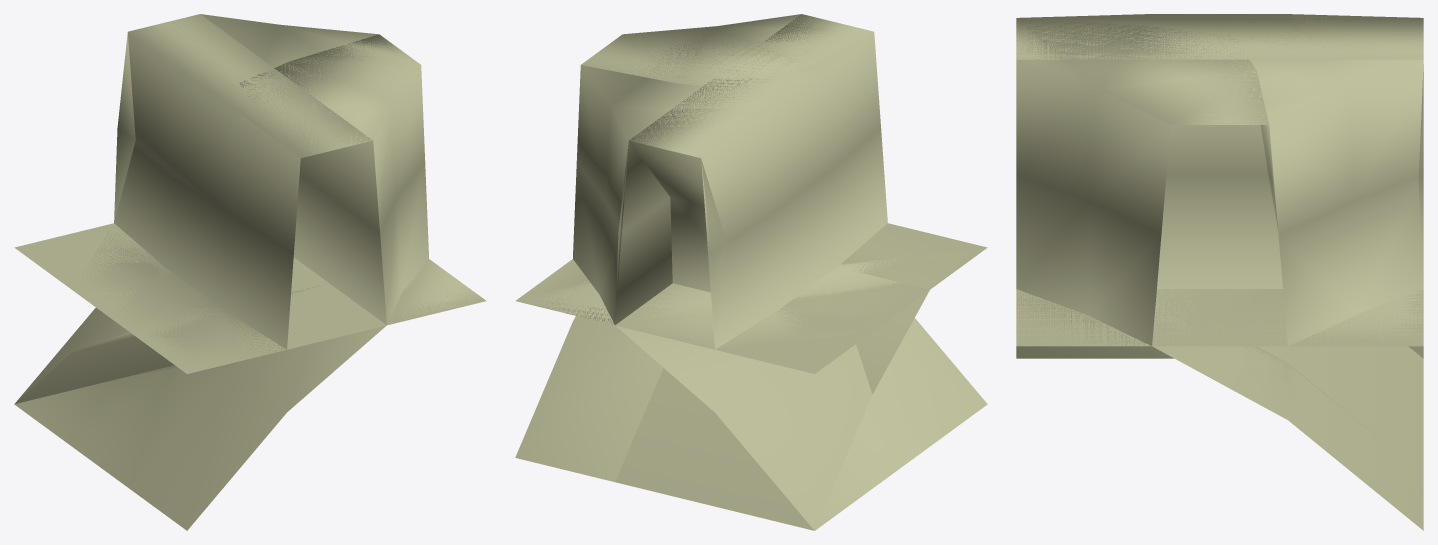
Rendered from outside_asset03.fbx.
3 renders of one model, left to right at view 1: azimuth 30°, elevation 25°; view 2: azimuth 150°, elevation 25°; view 3: azimuth 270°, elevation 25°, orthographic. The views are drawn at different scales.
Parts seen in each view (by area): view 1: asset03 - T, asset03 - Coast 2 borders, asset03 - I, asset03 - J, asset03 - Flat, asset03 - Coast 1 border, asset03 - end, asset03 - Coast corner; view 2: asset03 - T, asset03 - Coast 2 borders, asset03 - Coast 1 border, asset03 - Coast corner, asset03 - J, asset03 - I, asset03 - end, asset03 - Flat; view 3: asset03 - T, asset03 - I, asset03 - Coast 1 border, asset03 - J, asset03 - Flat, asset03 - end, asset03 - Coast 2 borders, asset03 - Coast corner.
Boxes of the visible parts, x1,y1,x2,y2 form: asset03 - T: (72,14,483,373); asset03 - Coast 2 borders: (14,300,484,530); asset03 - I: (128,14,485,325); asset03 - J: (15,34,426,372); asset03 - Flat: (14,223,486,373); asset03 - Coast 1 border: (14,284,482,404); asset03 - end: (69,33,484,372); asset03 - Coast corner: (15,307,128,402); asset03 - T: (573,14,985,349); asset03 - Coast 2 borders: (515,316,987,530); asset03 - Coast 1 border: (528,223,984,530); asset03 - Coast corner: (517,281,872,530); asset03 - J: (581,14,986,373); asset03 - I: (516,14,873,324); asset03 - end: (517,140,986,368); asset03 - Flat: (516,239,987,373); asset03 - T: (1016,14,1423,346); asset03 - I: (1016,18,1423,346); asset03 - Coast 1 border: (1016,289,1423,530); asset03 - J: (1016,18,1278,341); asset03 - Flat: (1016,289,1423,346); asset03 - end: (1016,64,1423,346); asset03 - Coast 2 borders: (1016,290,1423,530); asset03 - Coast corner: (1152,289,1423,358).
Size of the model in its own units: 1000 by 1100 by 1000.
